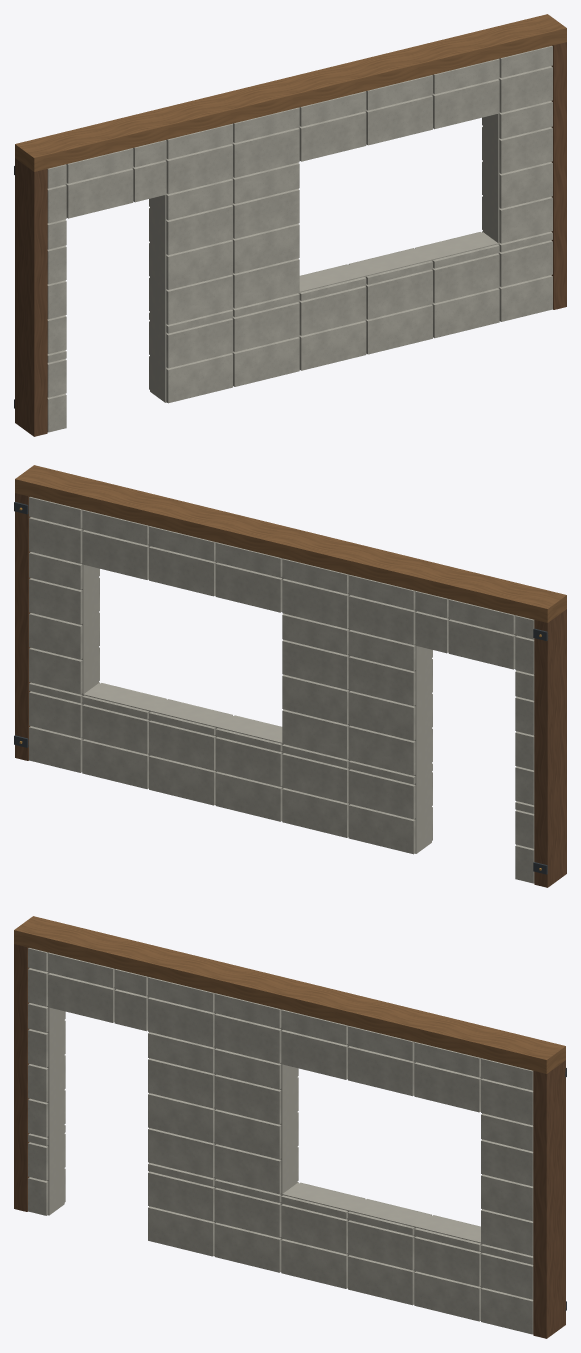
The picture shows the model from 3 angles, top to bottom: view 1: azimuth 30°, elevation 25°; view 2: azimuth 150°, elevation 25°; view 3: azimuth 330°, elevation 25°; orthographic projection.
Visible parts, largest first — view 1: 共享墙面用途 · fallback1; view 2: 共享墙面用途 · fallback1; view 3: 共享墙面用途 · fallback1.
Part boxes in pixels (<box>): 共享墙面用途 · fallback1: <box>14,14,566,436</box>; 共享墙面用途 · fallback1: <box>14,465,566,887</box>; 共享墙面用途 · fallback1: <box>14,916,566,1338</box>.
Bounding box in the file's own units: 6.4 × 3.2 × 0.44.
6 materials, 6 textured.
